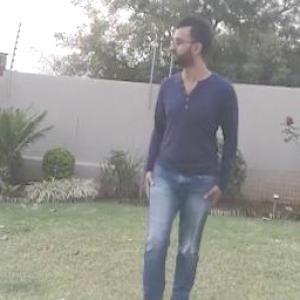follow: (135, 10, 238, 299)
